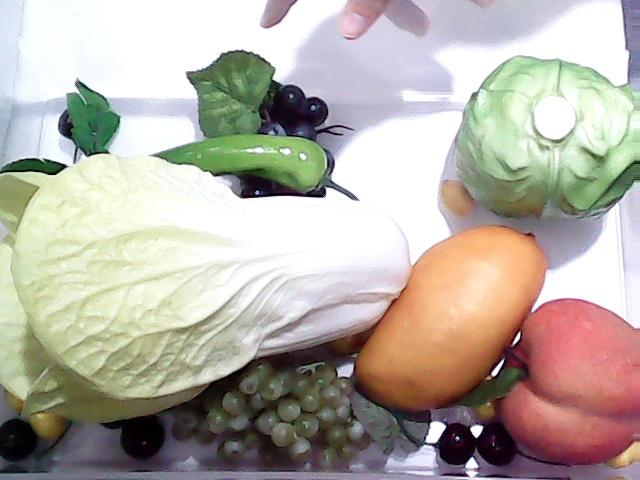cabbage: (448, 54, 640, 222)
grape: (169, 360, 411, 470), (182, 46, 331, 196)
mango: (358, 226, 546, 408)
napa cabbage: (0, 147, 416, 444)
peach: (491, 297, 640, 467)
pepper: (99, 104, 339, 221)
